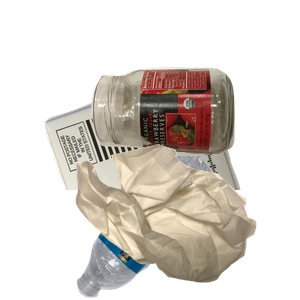glass: (89, 65, 300, 212)
paper: (42, 68, 275, 248)
plastic: (74, 156, 280, 300)
trash: (73, 142, 300, 300)
